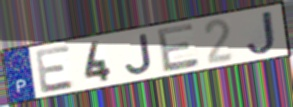2: (203, 17, 236, 67)
4: (83, 39, 114, 83)
E: (155, 21, 202, 75), (33, 43, 77, 95)
J: (244, 9, 278, 58), (123, 32, 155, 76)
